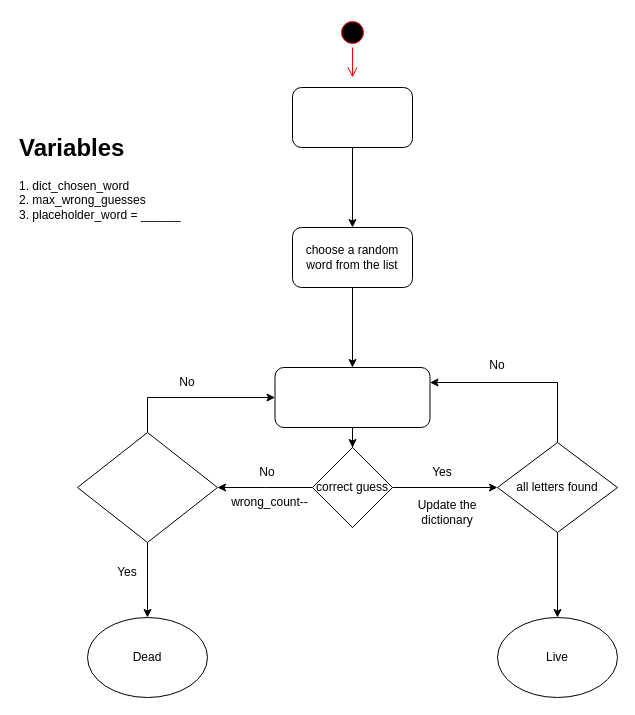
The diagram is 635 pixels wide and 715 high, and some of its shapes have lost their labels. The centre of each missing label's shape, as x and y in pixels:
"ask user to guess the letters" goes at (352,397).
"List of valid words for a hangman game" goes at (352,117).
"wrong_count == max_wrong_count" goes at (147,487).
